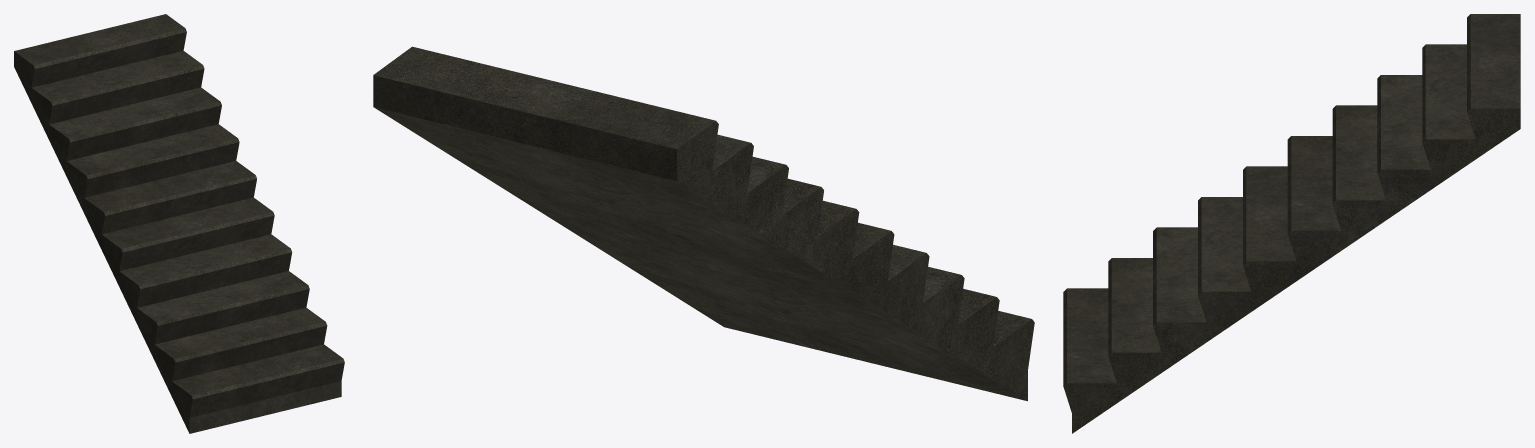
Rendered from stairs_5_concrete.glb.
3 views of the same model, side by side, from view 1: azimuth 30°, elevation 25°; view 2: azimuth 150°, elevation 25°; view 3: azimuth 270°, elevation 25° (orthographic). The views are drawn at different scales.
Parts seen in each view (by area): view 1: stairs_5_concrete; view 2: stairs_5_concrete; view 3: stairs_5_concrete.
Part boxes in pixels (bbox=[...]): stairs_5_concrete: bbox=[14, 14, 344, 433]; stairs_5_concrete: bbox=[373, 46, 1034, 401]; stairs_5_concrete: bbox=[1063, 14, 1520, 433].
Size of the model in its own units: 2 by 3.2 by 4.08.
1 material, 1 textured.
